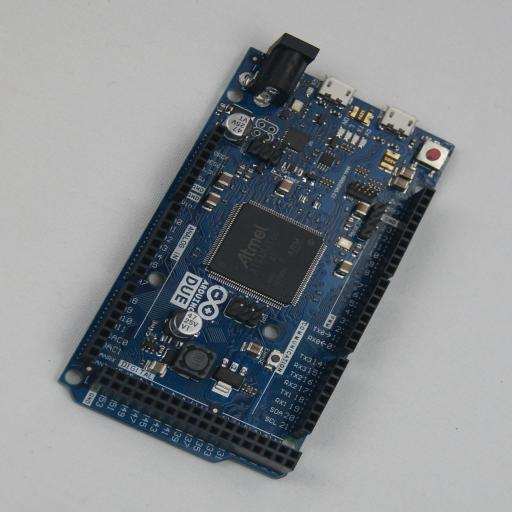Arduino Due: (58, 33, 454, 479)
